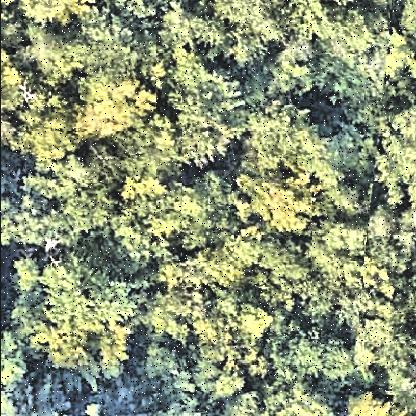tree-top: (28, 254, 144, 378), (153, 244, 266, 356), (163, 52, 251, 172), (1, 163, 115, 253), (347, 250, 416, 381), (63, 10, 163, 80), (115, 171, 195, 255), (164, 2, 272, 58), (75, 68, 155, 142), (269, 318, 357, 384), (249, 101, 325, 177), (311, 1, 393, 61), (17, 93, 85, 165), (243, 171, 317, 233), (186, 172, 244, 249), (373, 106, 416, 208), (278, 6, 322, 103), (248, 241, 312, 306), (220, 382, 332, 416), (21, 1, 98, 31), (343, 383, 397, 416)
